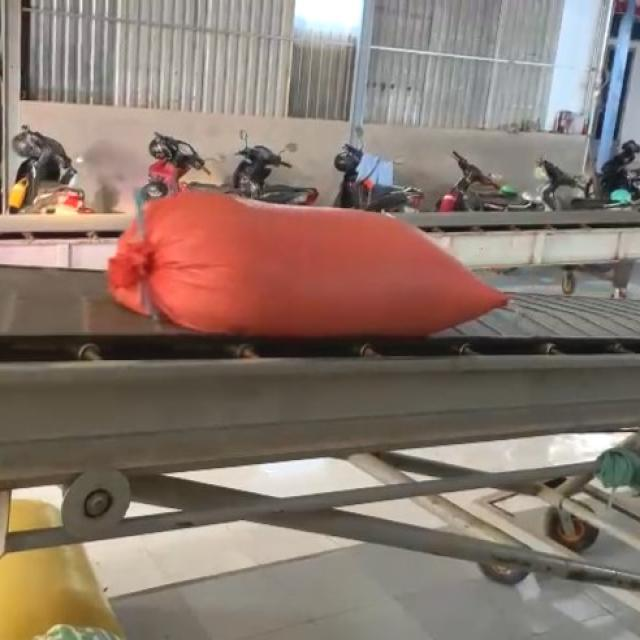gunny_bag: (107, 189, 507, 338)
